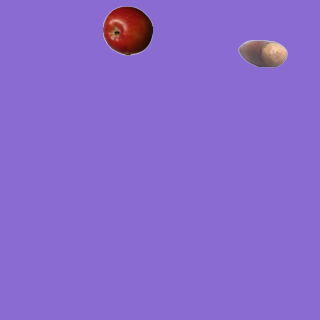Apple Braeburn: (102, 5, 152, 55)
Hazelnut: (237, 28, 287, 78)
